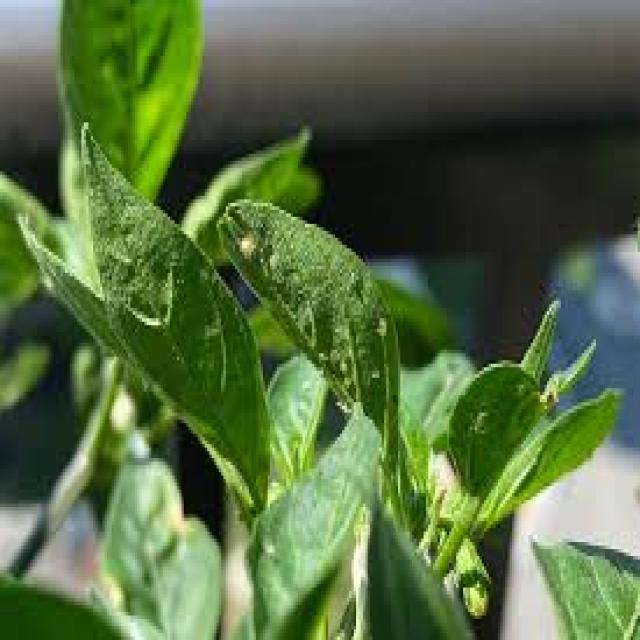aphid: (468, 395, 493, 441), (233, 224, 258, 262), (370, 304, 391, 339), (333, 364, 356, 395), (333, 350, 354, 378)
